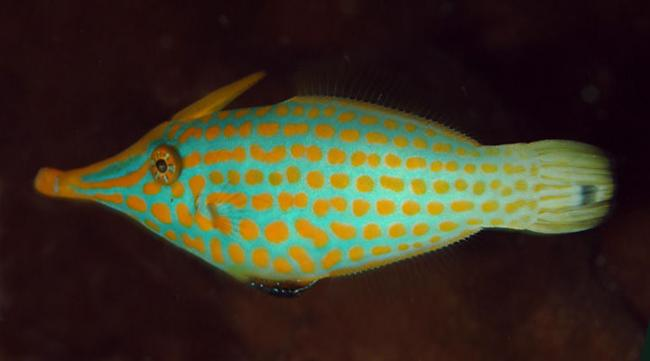fish: (34, 71, 613, 294)
